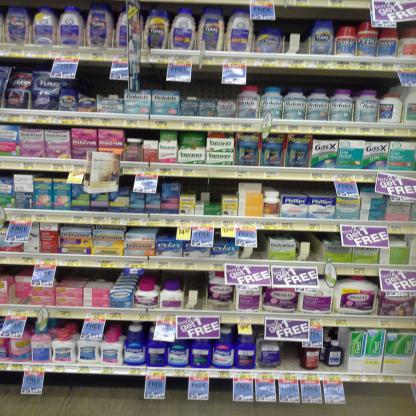Void: (282, 17, 307, 56), (190, 180, 236, 196), (68, 270, 115, 281), (84, 66, 102, 93), (283, 183, 324, 192), (197, 76, 214, 97), (192, 274, 202, 309), (209, 302, 226, 311)
